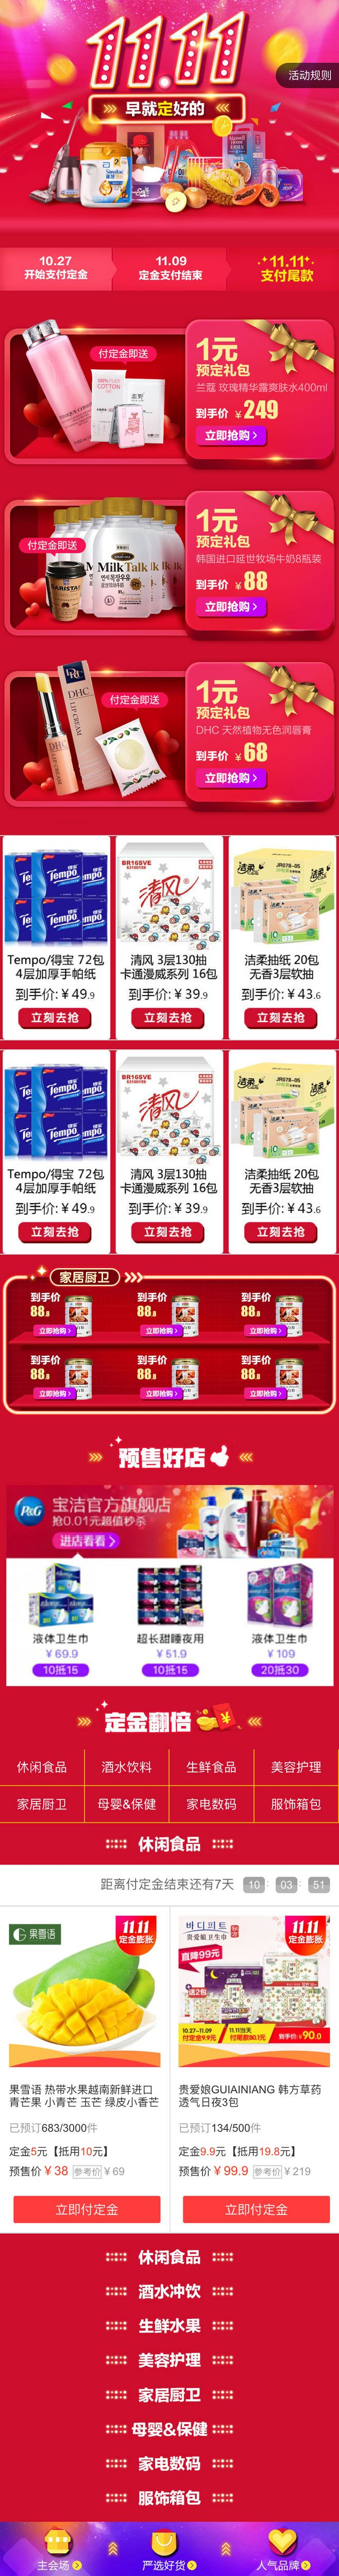floors: (0, 831, 339, 1416), (0, 302, 339, 813), (0, 1833, 339, 2234), (0, 1434, 339, 1689), (0, 1699, 339, 1825), (0, 2348, 339, 2377), (0, 2242, 339, 2270), (0, 2279, 339, 2302), (0, 2315, 339, 2338), (0, 2453, 339, 2476), (0, 2487, 339, 2510), (0, 2384, 339, 2405), (0, 2420, 339, 2441)
toutu: (0, 0, 339, 232)
